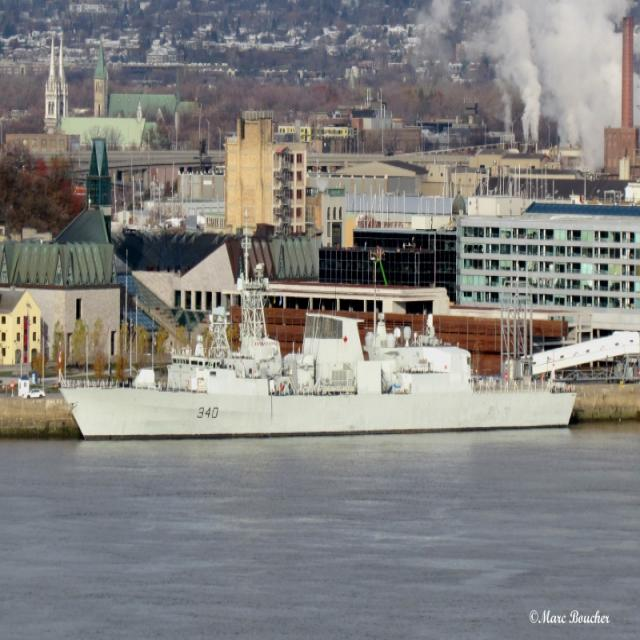Fragata: (54, 225, 580, 449)
